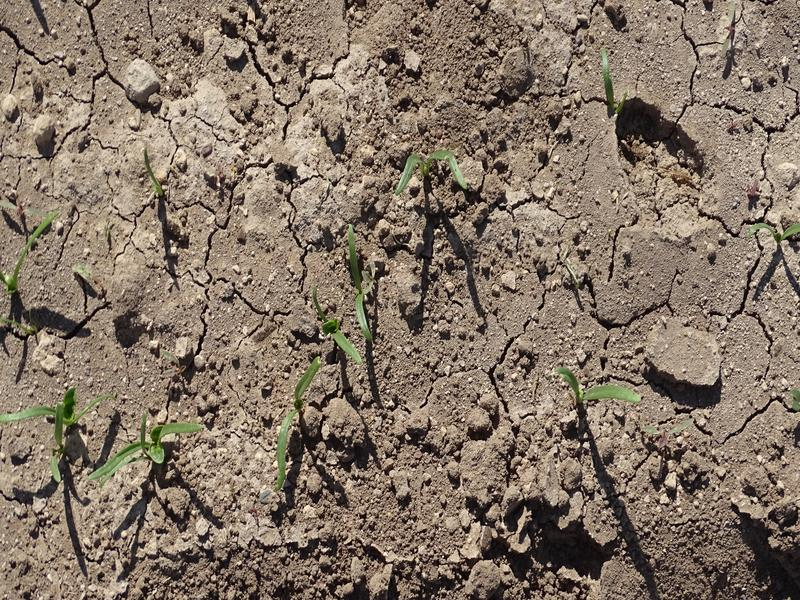Espinaca: (85, 413, 205, 481), (22, 382, 107, 469), (274, 359, 324, 489), (1, 211, 59, 289), (550, 365, 643, 406), (311, 296, 364, 365), (348, 225, 374, 339), (393, 149, 470, 187), (141, 144, 170, 201), (597, 48, 622, 103), (751, 219, 800, 242)
